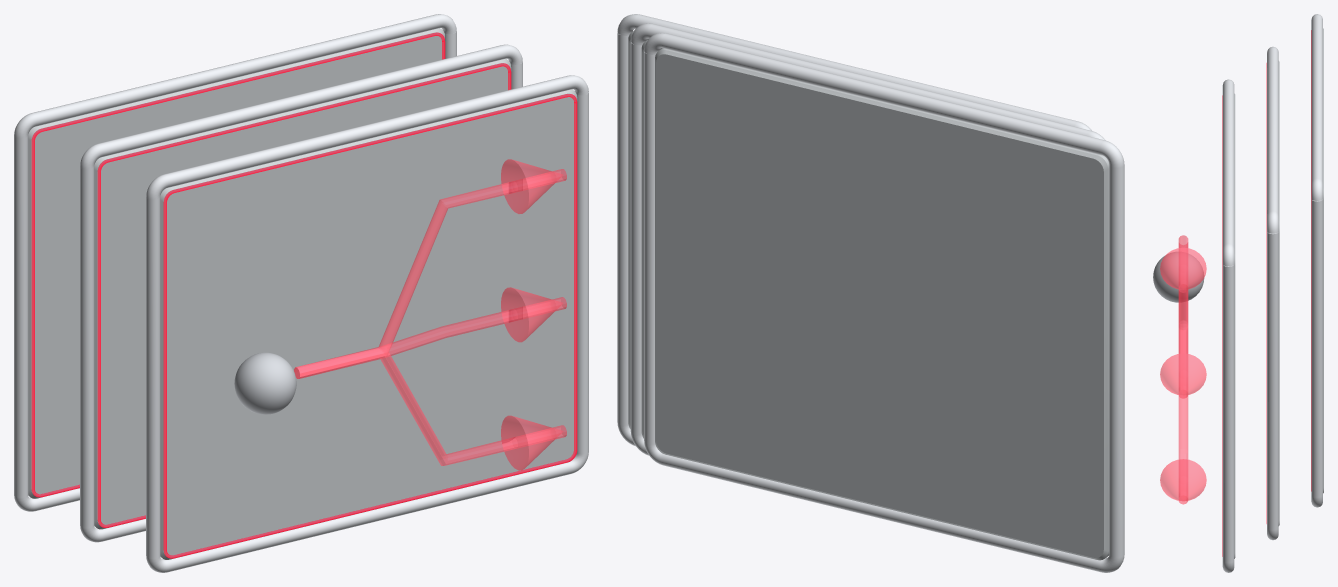
The model's file is 27-scenario-planning.glb.
3 views of the same model, side by side, from view 1: azimuth 30°, elevation 25°; view 2: azimuth 150°, elevation 25°; view 3: azimuth 270°, elevation 25° (orthographic). The views are drawn at different scales.
Parts seen in each view (by area): view 1: BC clear optical glass, BC polished silver metal, BC ruby optical glass, BC neon red glass edge, BC satin silver metal; view 2: BC clear optical glass, BC polished silver metal; view 3: BC polished silver metal, BC ruby optical glass, BC clear optical glass, BC satin silver metal, BC neon red glass edge.
Part boxes in pixels (x1,y1,x2,y2): BC clear optical glass: (28,28,577,559); BC polished silver metal: (14,14,588,572); BC ruby optical glass: (294,159,566,470); BC neon red glass edge: (31,32,577,558); BC satin silver metal: (234,352,296,414); BC clear optical glass: (628,30,1109,560); BC polished silver metal: (617,14,1124,572); BC polished silver metal: (1222,14,1322,572); BC ruby optical glass: (1160,235,1206,504); BC clear optical glass: (1234,28,1323,558); BC satin silver metal: (1153,252,1204,302); BC neon red glass edge: (1222,30,1311,556).
Size of the model in its own units: 2.12 by 1.71 by 0.7325.
